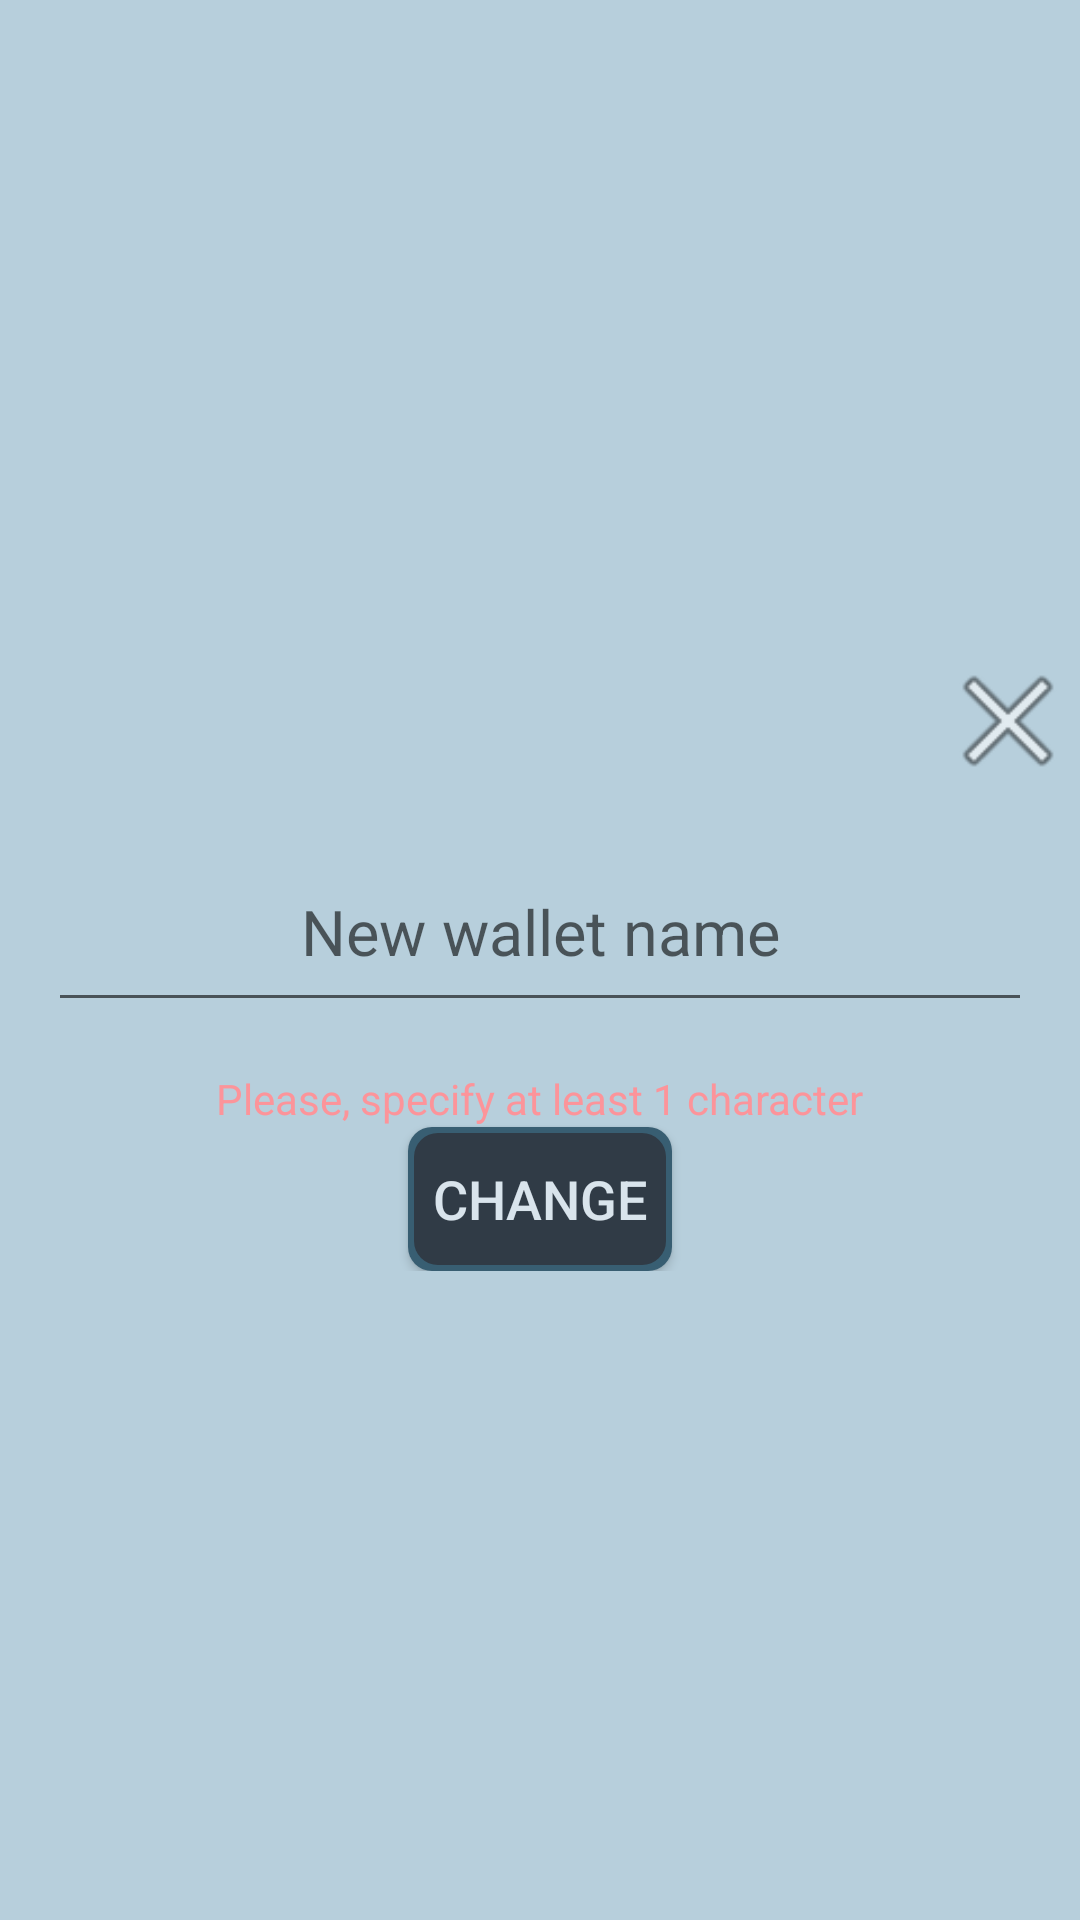

Where icons sit on this 1080px×1920px app screen, as (x1, y1, x2, y2):
close clear cancel: (963, 676, 1053, 766)
